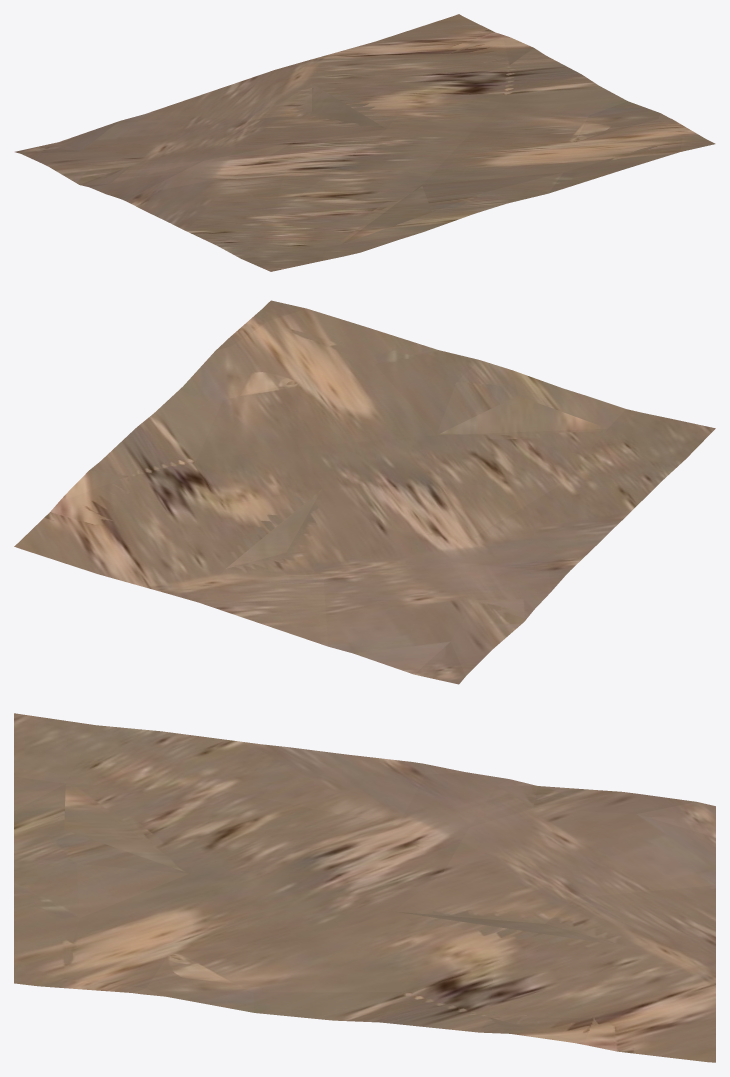
3 renders of one model, top to bottom at view 1: azimuth 30°, elevation 25°; view 2: azimuth 150°, elevation 25°; view 3: azimuth 270°, elevation 25°, orthographic. The views are drawn at different scales.
Bounding box in the file's own units: 2.09 × 0.3997 × 2.09.
2 materials, 2 textured.
